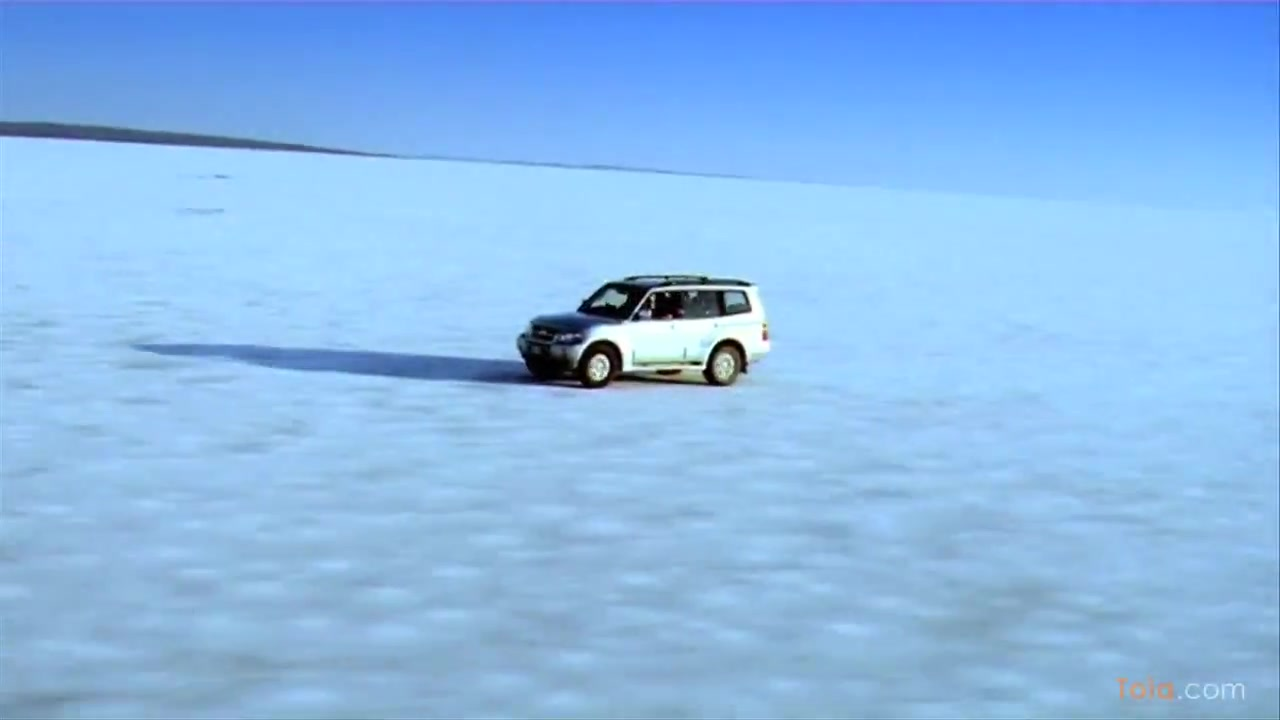car: (517, 275, 774, 398)
